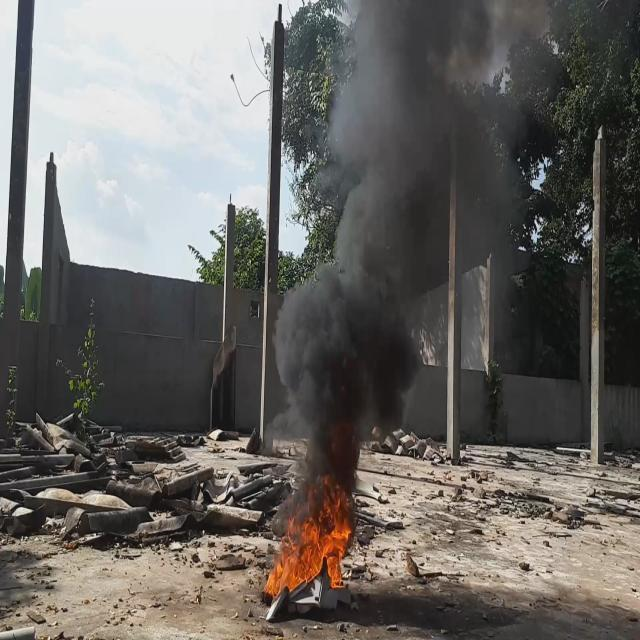Fire: (258, 477, 362, 605)
Smoke: (272, 0, 501, 499)
